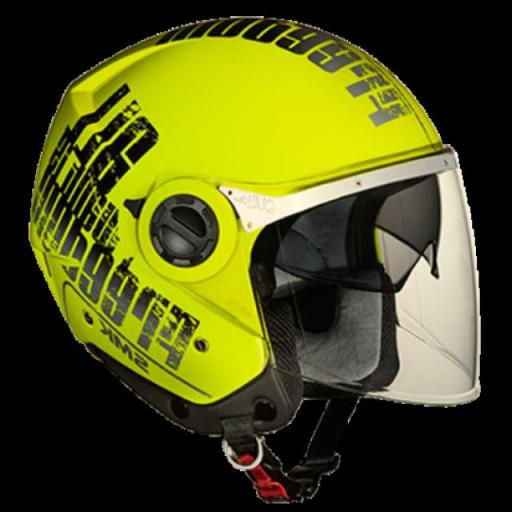Helmet: (30, 17, 479, 500)
